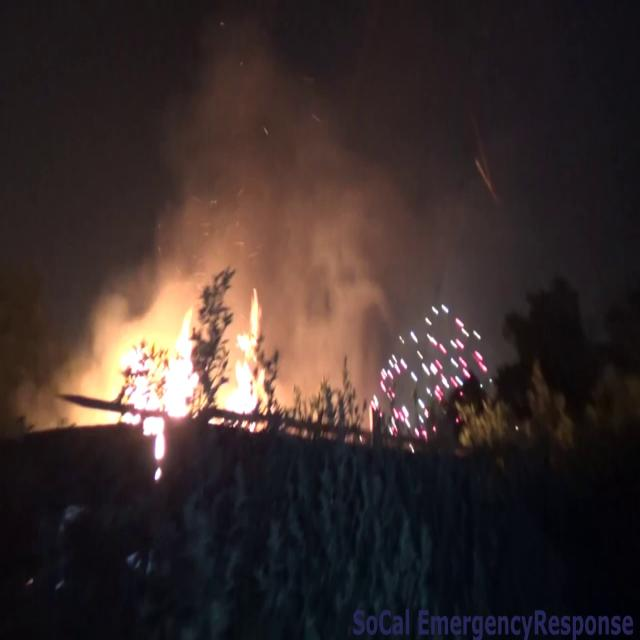Fire: (91, 285, 279, 433)
Smoke: (89, 0, 422, 342)
